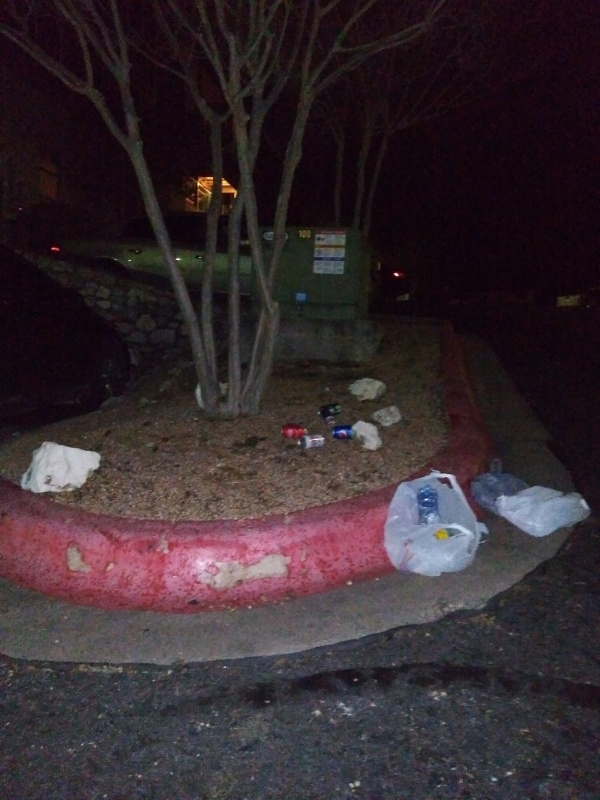can: (278, 422, 311, 441), (296, 433, 327, 450), (329, 424, 355, 443), (327, 404, 345, 412), (324, 415, 336, 427)
